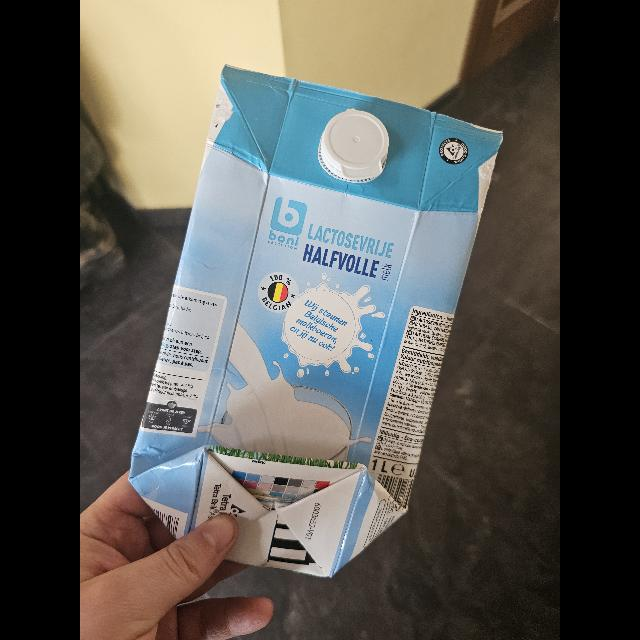Cardboard: (126, 61, 506, 585)
Plastic: (312, 100, 396, 186)
